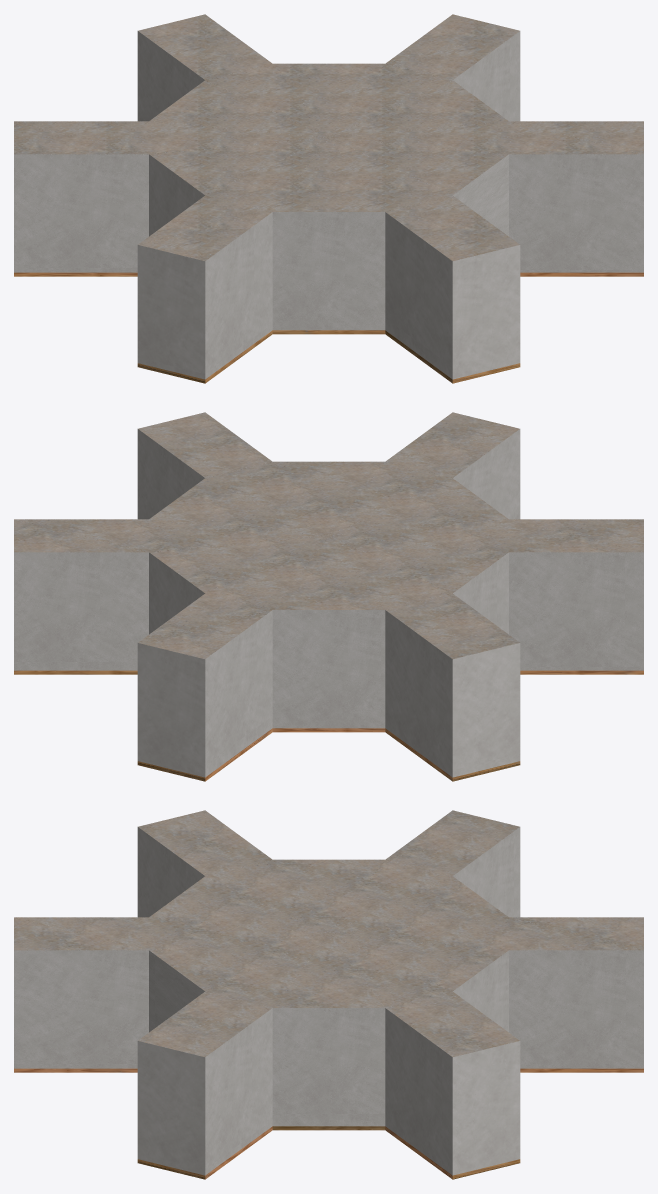
Rendered from star_maze.FBX.
The picture shows the model from 3 angles, top to bottom: view 1: azimuth 30°, elevation 25°; view 2: azimuth 150°, elevation 25°; view 3: azimuth 270°, elevation 25°; orthographic projection.
Parts seen in each view (by area): view 1: outer; view 2: outer; view 3: outer.
Boxes of the visible parts, bbox=[...] form: outer: bbox=[14, 14, 643, 383]; outer: bbox=[14, 412, 643, 781]; outer: bbox=[14, 810, 643, 1179].
Size of the model in its own units: 12.99 by 3 by 14.
4 materials, 4 textured.
